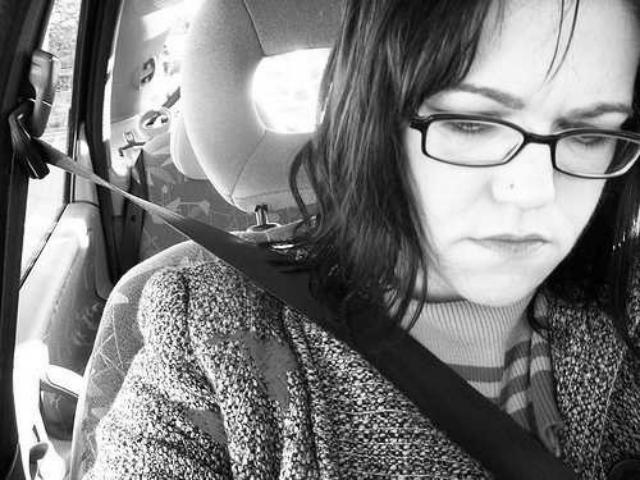SafeDriving: (424, 96, 514, 146), (556, 112, 628, 154)
Seatbelt: (26, 52, 582, 478)
